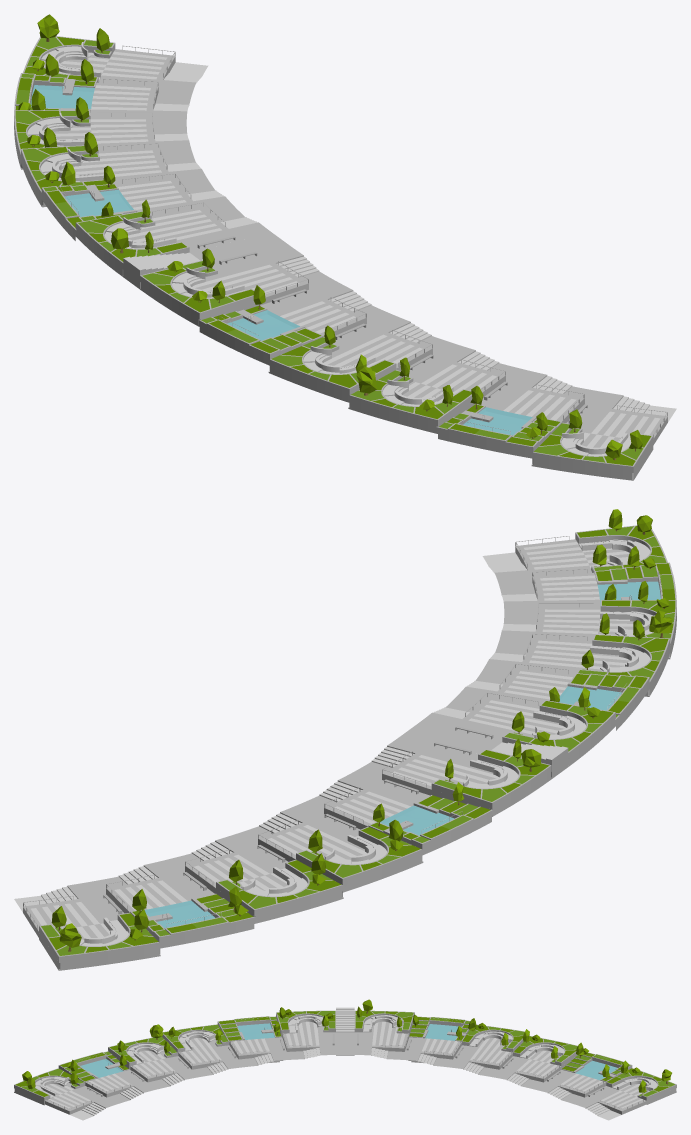
File: ring3_segment.glb
3 renders of one model, top to bottom at view 1: azimuth 30°, elevation 25°; view 2: azimuth 150°, elevation 25°; view 3: azimuth 270°, elevation 25°, orthographic. The views are drawn at different scales.
Visible parts, largest first — view 1: RING_3_MOD; view 2: RING_3_MOD; view 3: RING_3_MOD.
Boxes of the visible parts, <box> form: RING_3_MOD: <box>14,14,676,480</box>; RING_3_MOD: <box>14,509,676,970</box>; RING_3_MOD: <box>14,999,676,1120</box>.
Bounding box in the file's own units: 4664 × 991 × 15327.
9 materials, 1 textured.
